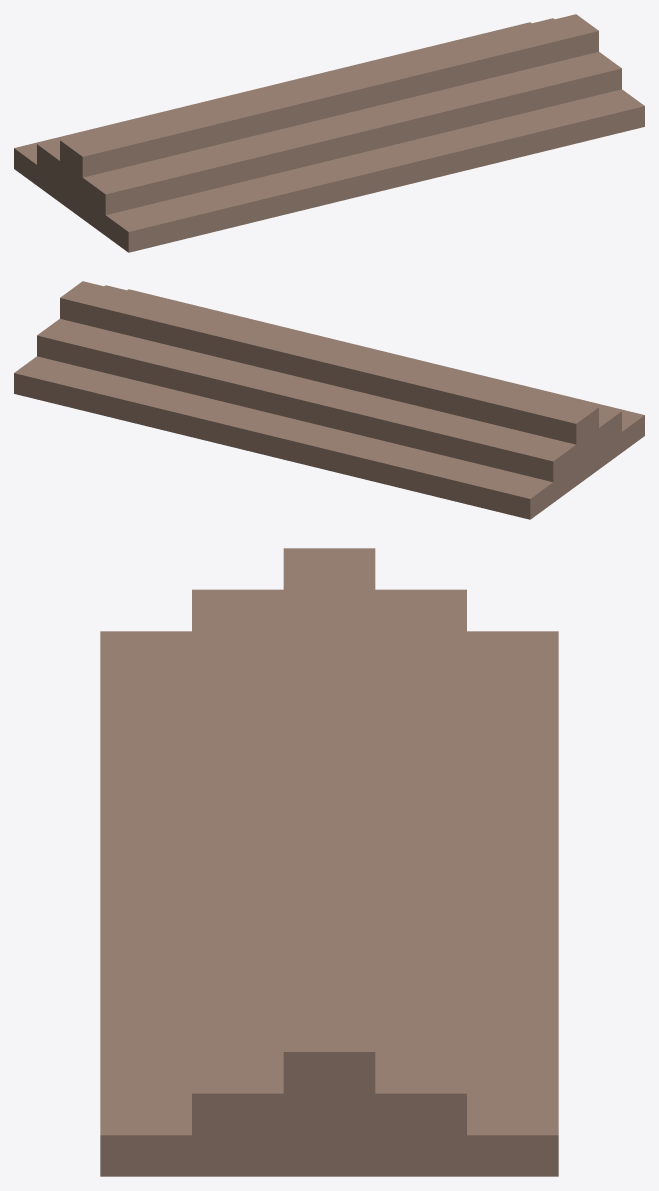
File: tomb_a_a_lid.obj
3 views of the same model, one above another, from view 1: azimuth 30°, elevation 25°; view 2: azimuth 150°, elevation 25°; view 3: azimuth 270°, elevation 25° (orthographic). The views are drawn at different scales.
Bounding box in the file's own units: 2.6 × 0.3 × 1.
Materials: 1 (1 with a texture image).
